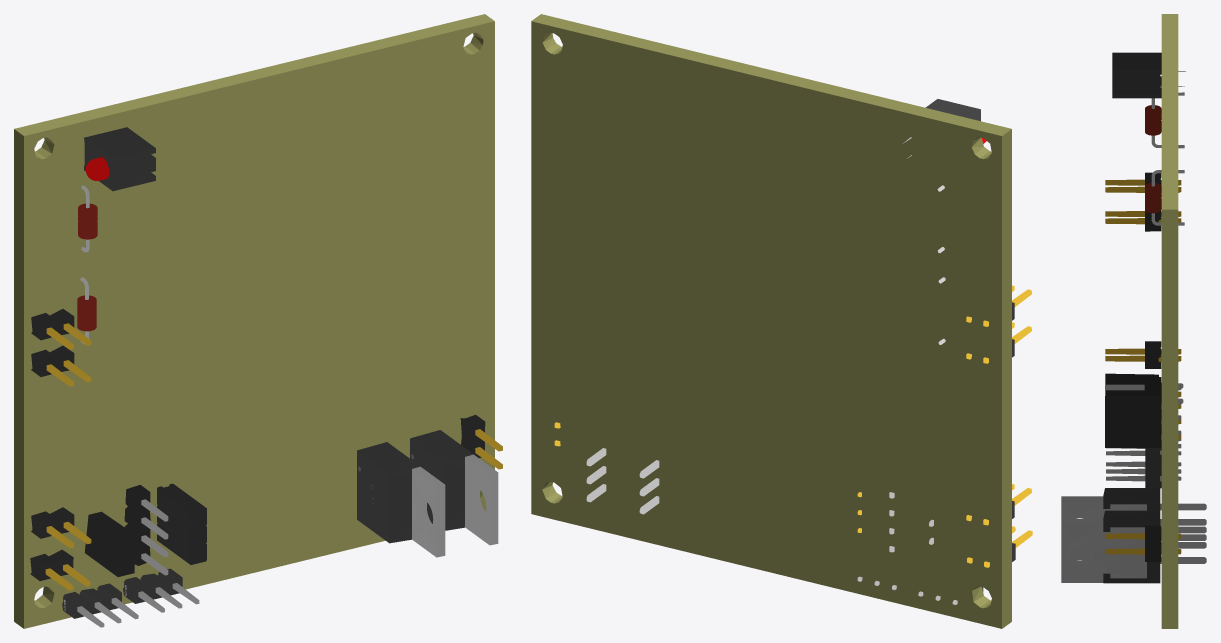
Rendered from OBJ_PCB_MicroCubeSat.obj.
3 renders of one model, left to right at view 1: azimuth 30°, elevation 25°; view 2: azimuth 150°, elevation 25°; view 3: azimuth 270°, elevation 25°, orthographic. The views are drawn at different scales.
Size of the model in its own units: 274 by 274 by 86.22.
